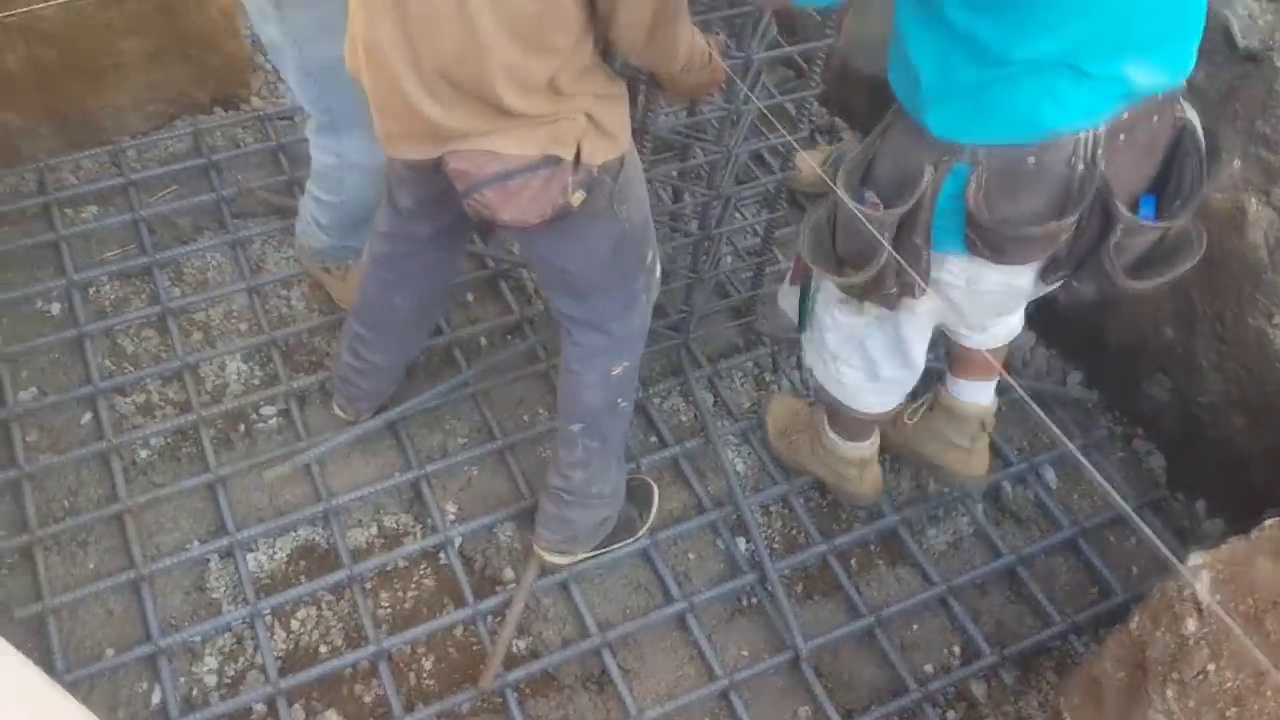person: (764, 0, 1208, 506), (326, 0, 720, 555), (247, 0, 442, 383)
